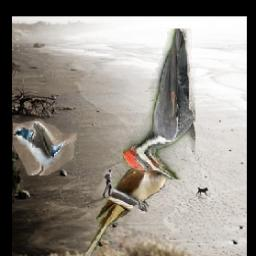Cuckoo: (75, 164, 176, 256)
Swallow: (13, 118, 77, 175)
Woodpecker: (122, 29, 195, 180)
